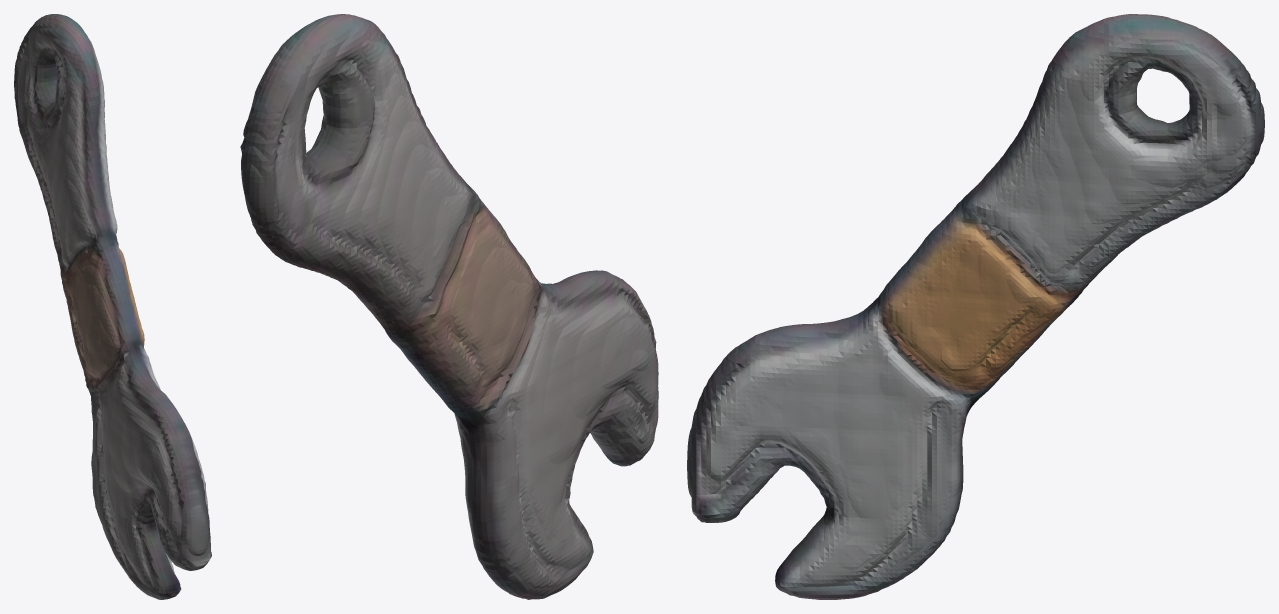
File: triposr_space_wrench.glb
3 renders of one model, left to right at view 1: azimuth 30°, elevation 25°; view 2: azimuth 150°, elevation 25°; view 3: azimuth 270°, elevation 25°, orthographic. The views are drawn at different scales.
Visible parts, largest first — view 1: geometry_0; view 2: geometry_0; view 3: geometry_0.
Boxes of the visible parts, <box> form: geometry_0: <box>14,14,211,599</box>; geometry_0: <box>240,14,658,599</box>; geometry_0: <box>687,14,1264,599</box>.
Bounding box in the file's own units: 0.1792 × 0.932 × 0.8029.
